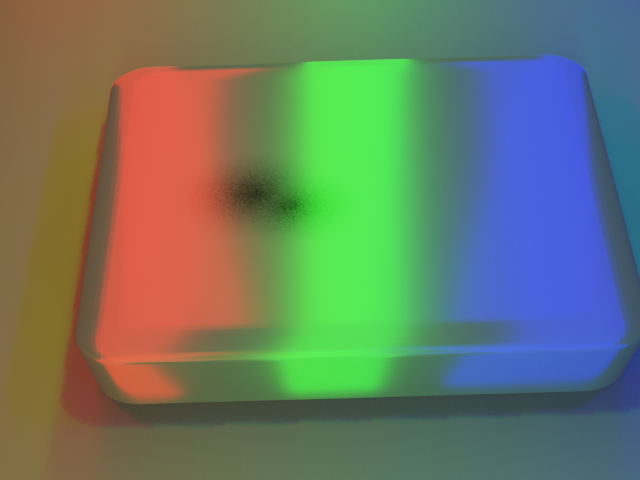stain: (148, 124, 394, 264)
